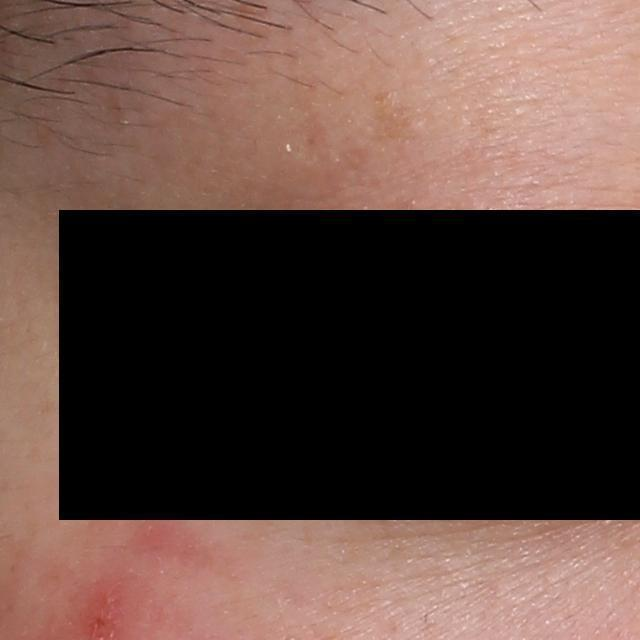melasma: (372, 86, 420, 144)
